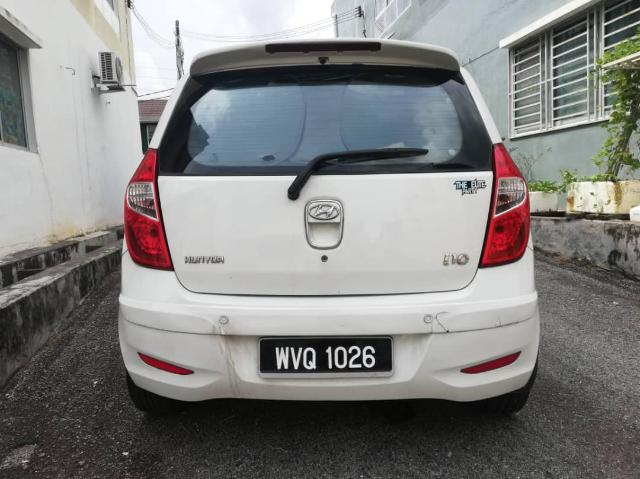License_Plate: (260, 341, 390, 375)
car: (124, 37, 541, 415)
